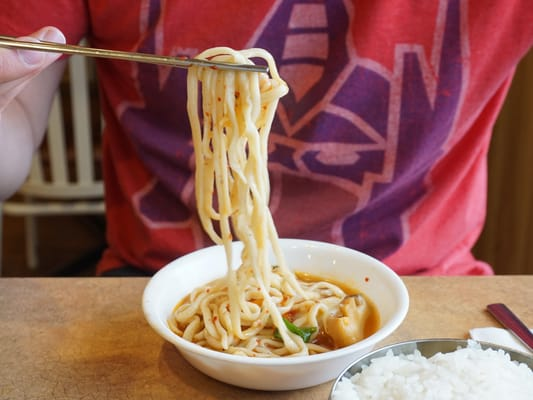sandwich: (485, 302, 533, 355)
sushi: (141, 237, 410, 391), (330, 336, 532, 400)
